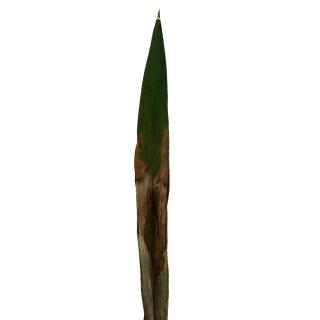Hawar-Daun: (138, 144, 168, 312)
